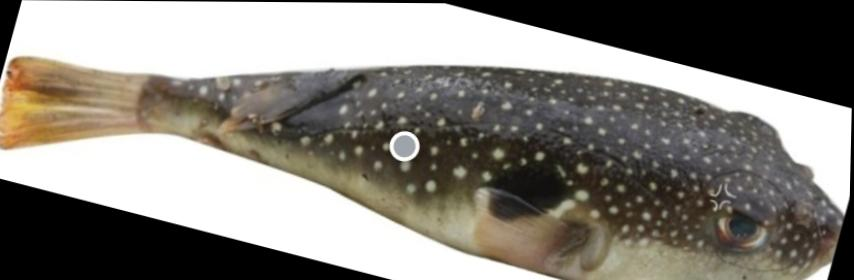fish: (0, 56, 844, 280)
